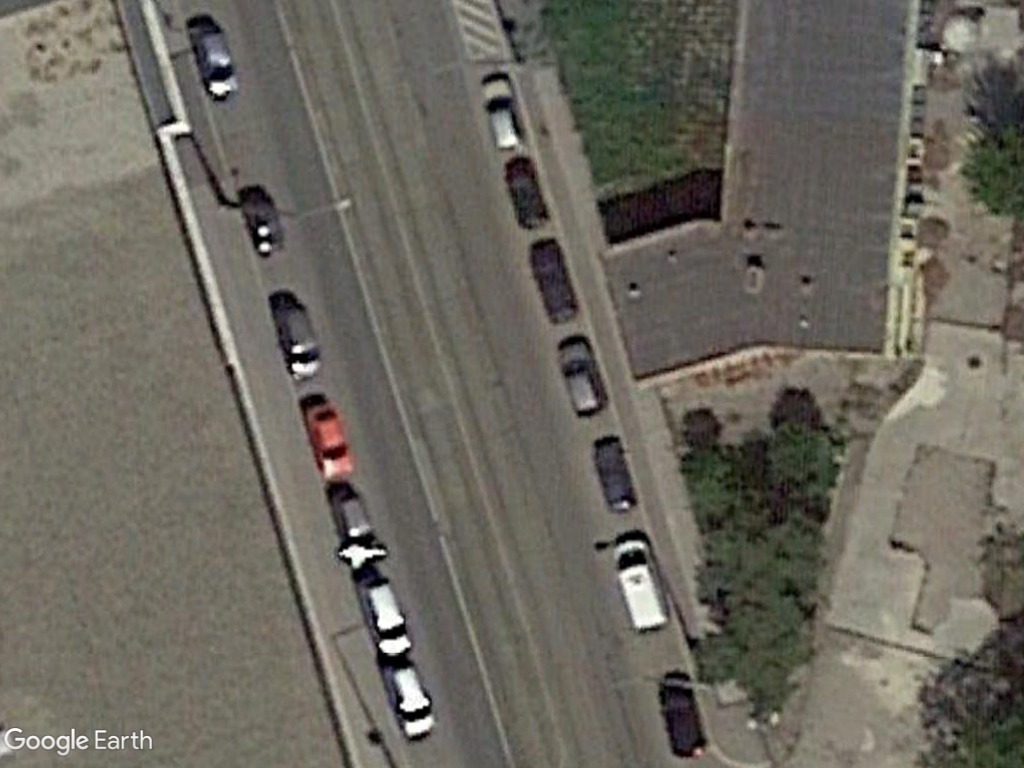car: (349, 568, 416, 665), (182, 18, 243, 105), (269, 294, 326, 384), (553, 336, 611, 424), (474, 72, 532, 159), (301, 397, 356, 486), (378, 657, 433, 740)
van: (604, 531, 671, 639)
